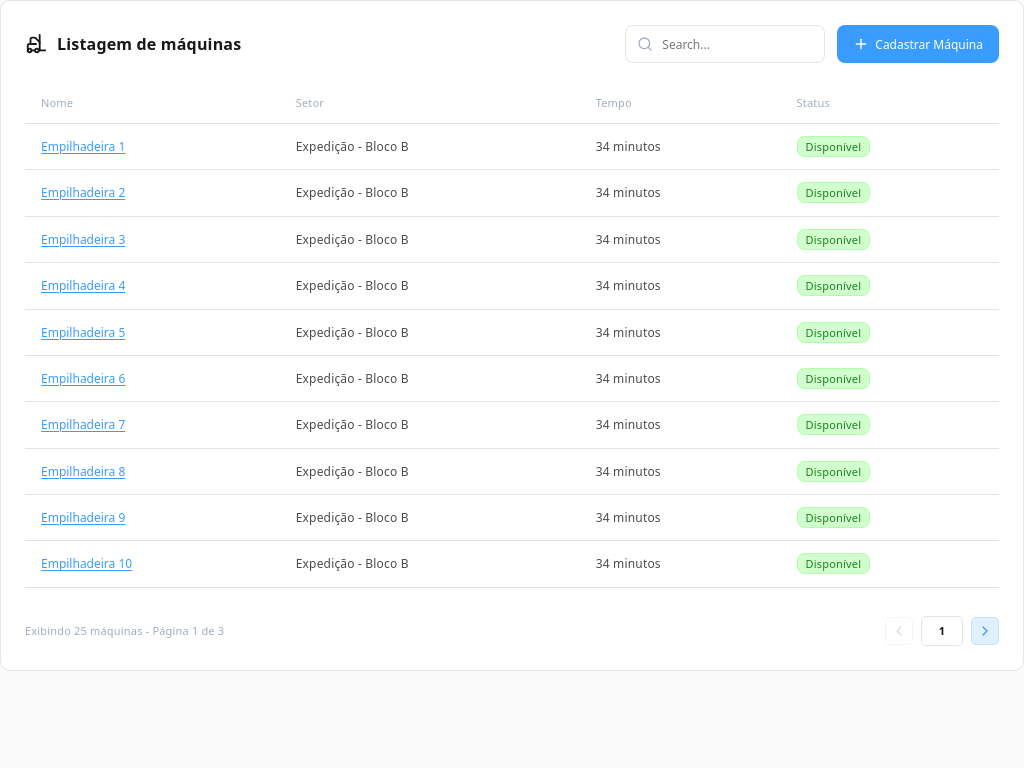
Test: MachineTable › filters by name and identification and resets to page 1
Click the button named "Próxima página" at (985, 631), box x1=971 y1=617 x2=999 y2=645
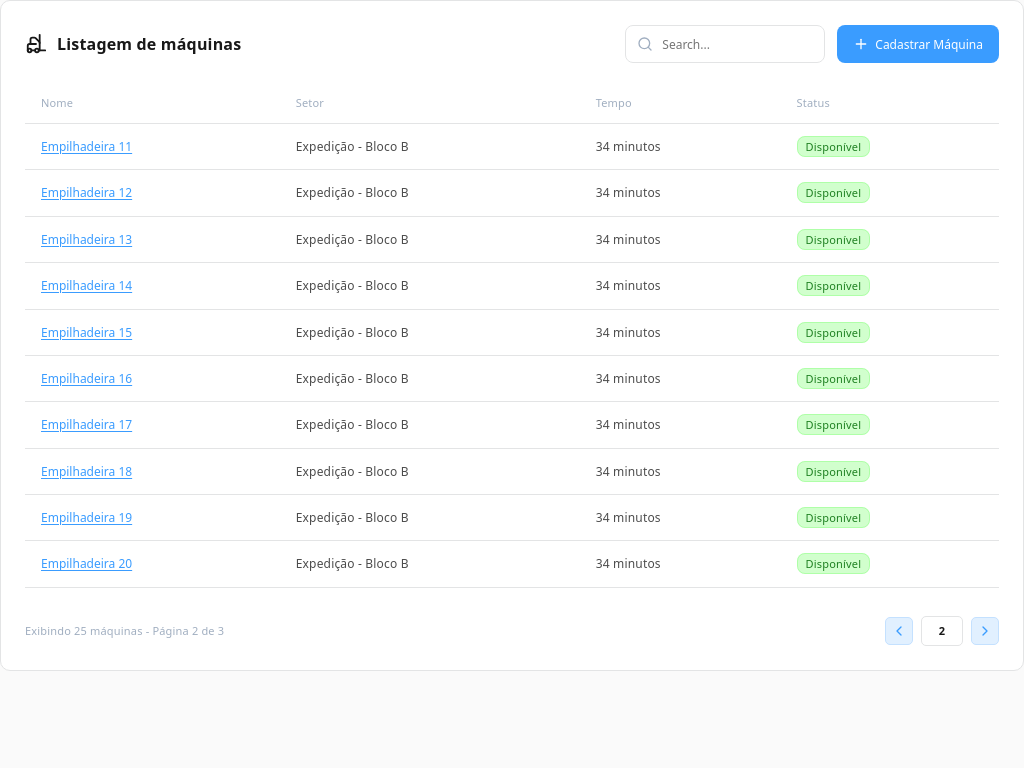
Check: the text "Exibindo 25 máquinas - Página 2 de 3" is shown, box x1=25 y1=623 x2=224 y2=639
Note: Filter by name
Type "Titan" into the search field named "Buscar máquinas" at (725, 44), box x1=625 y1=25 x2=825 y2=63
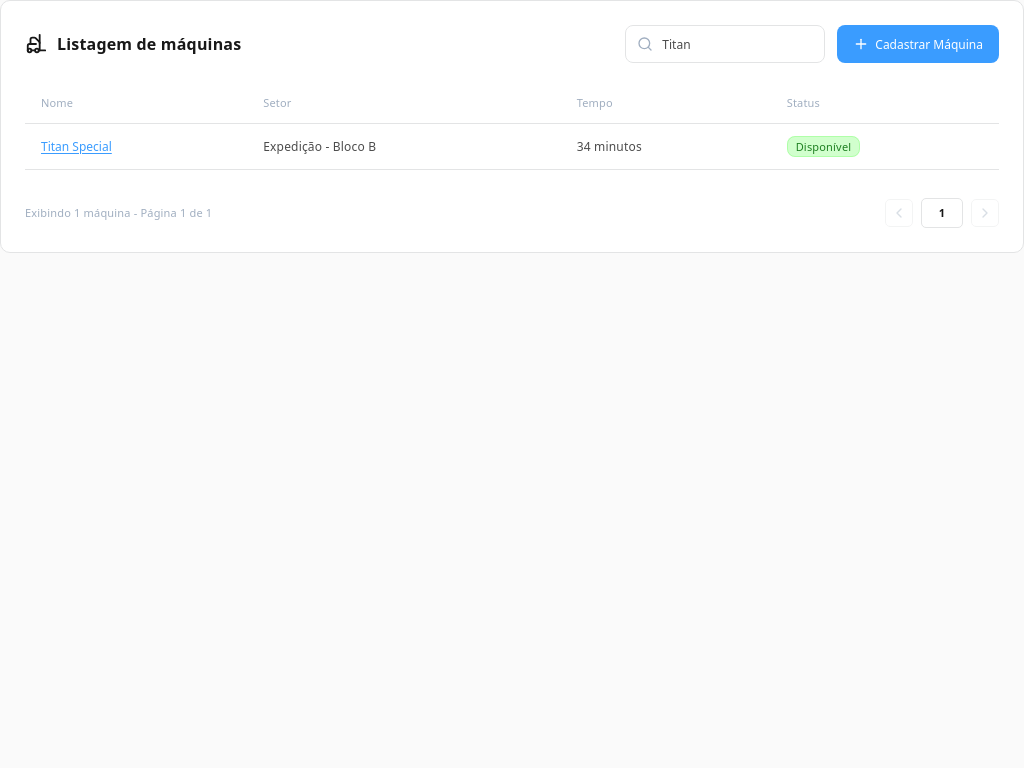
Check: the text "Exibindo 1 máquina - Página 1 de 1" is shown, box x1=25 y1=205 x2=212 y2=221
Check: the button "Titan Special" is shown, box x1=41 y1=138 x2=112 y2=155
Note: Filter by identification
Replace the text in the search field named "Buscar máquinas" with "CUSTOM-999" at (725, 44), box x1=625 y1=25 x2=825 y2=63
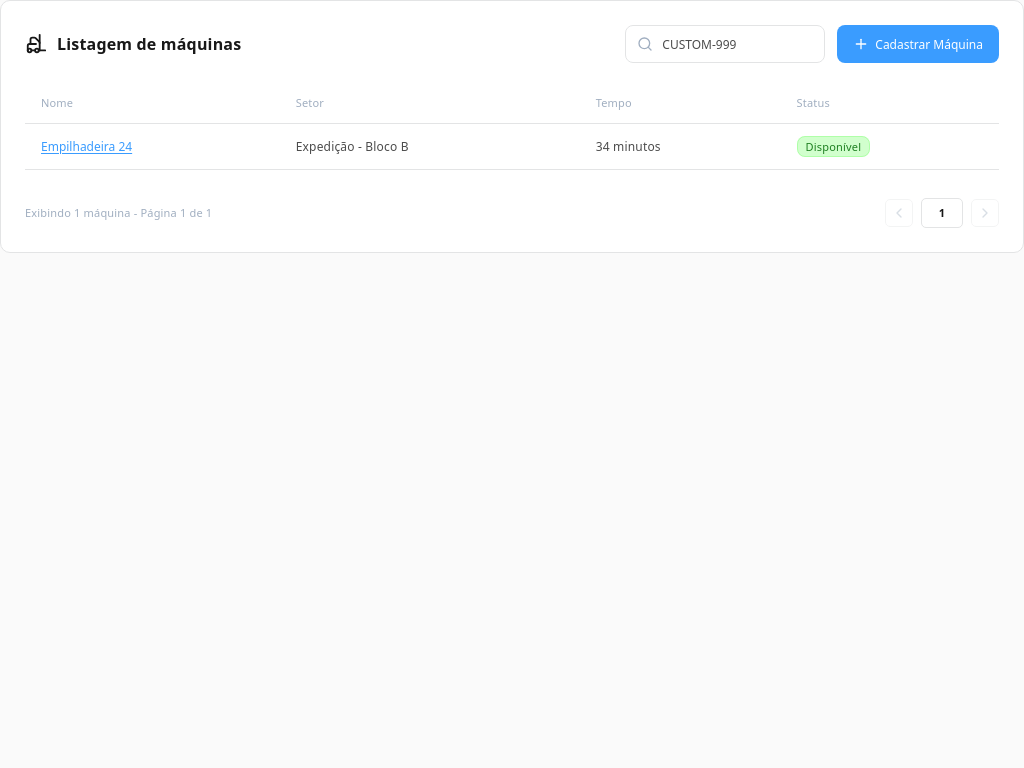
Check: the text "Exibindo 1 máquina - Página 1 de 1" is shown, box x1=25 y1=205 x2=212 y2=221
Check: the button "Empilhadeira 24" is shown, box x1=41 y1=138 x2=132 y2=155
